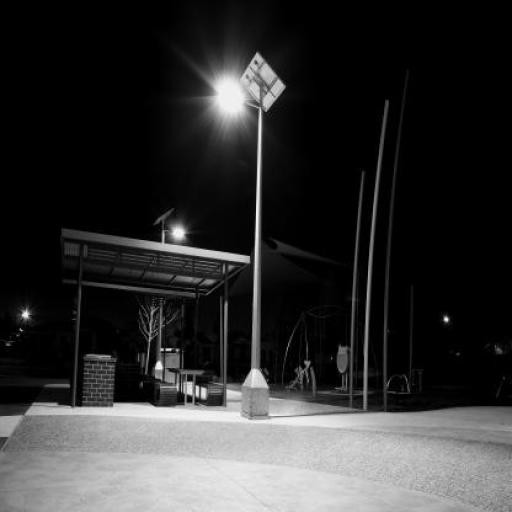acesa: (204, 71, 255, 117), (167, 218, 192, 247), (20, 308, 31, 322), (442, 313, 449, 322)
